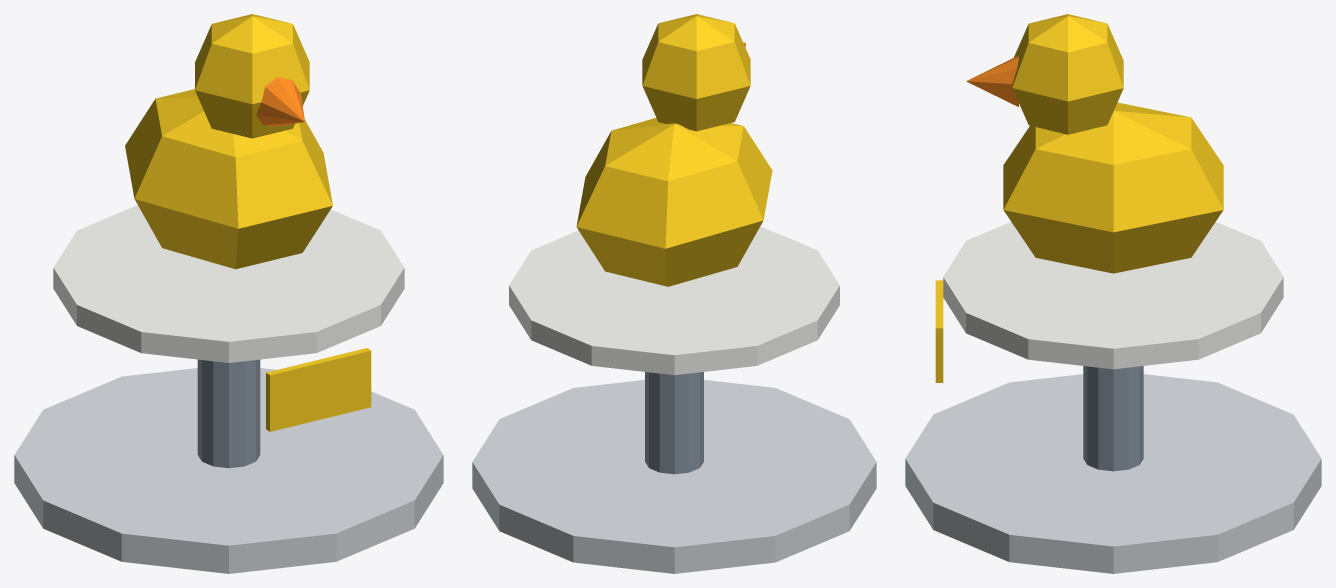
Rendered from item-rubber_duck.glb.
3 views of the same model, side by side, from view 1: azimuth 30°, elevation 25°; view 2: azimuth 150°, elevation 25°; view 3: azimuth 270°, elevation 25° (orthographic). The views are drawn at different scales.
Visible parts, largest first — view 1: item-rubber_duck; view 2: item-rubber_duck; view 3: item-rubber_duck.
Boxes of the visible parts, bbox=[...] form: item-rubber_duck: bbox=[14, 14, 443, 573]; item-rubber_duck: bbox=[472, 14, 876, 573]; item-rubber_duck: bbox=[905, 14, 1321, 573].
Bounding box in the file's own units: 1.1 × 1.37 × 1.1.
